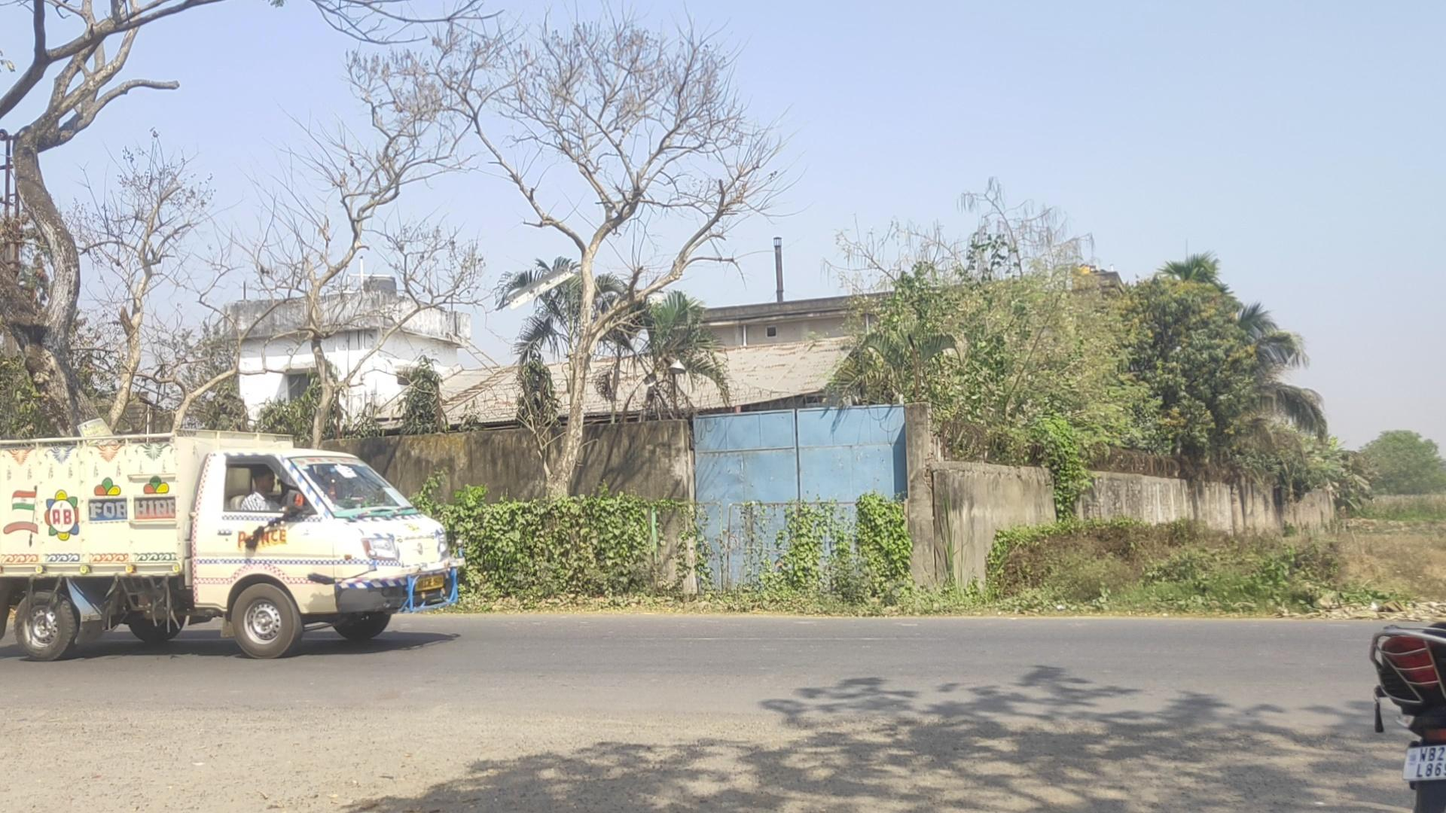van: (2, 428, 468, 660)
